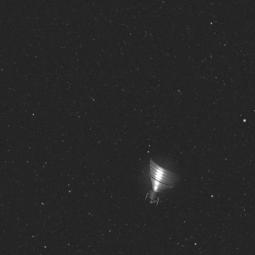debris: (135, 148, 185, 208)
